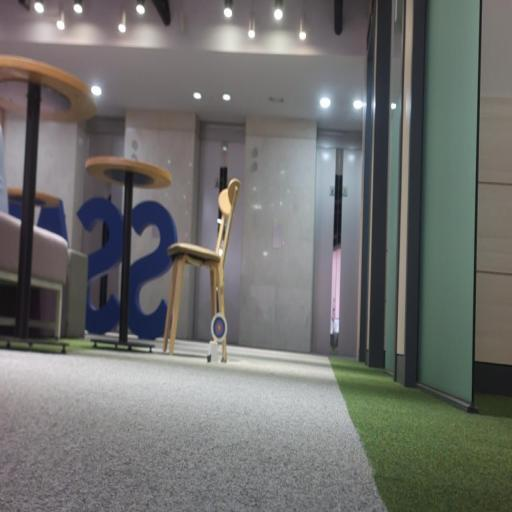target: (211, 314, 227, 342)
